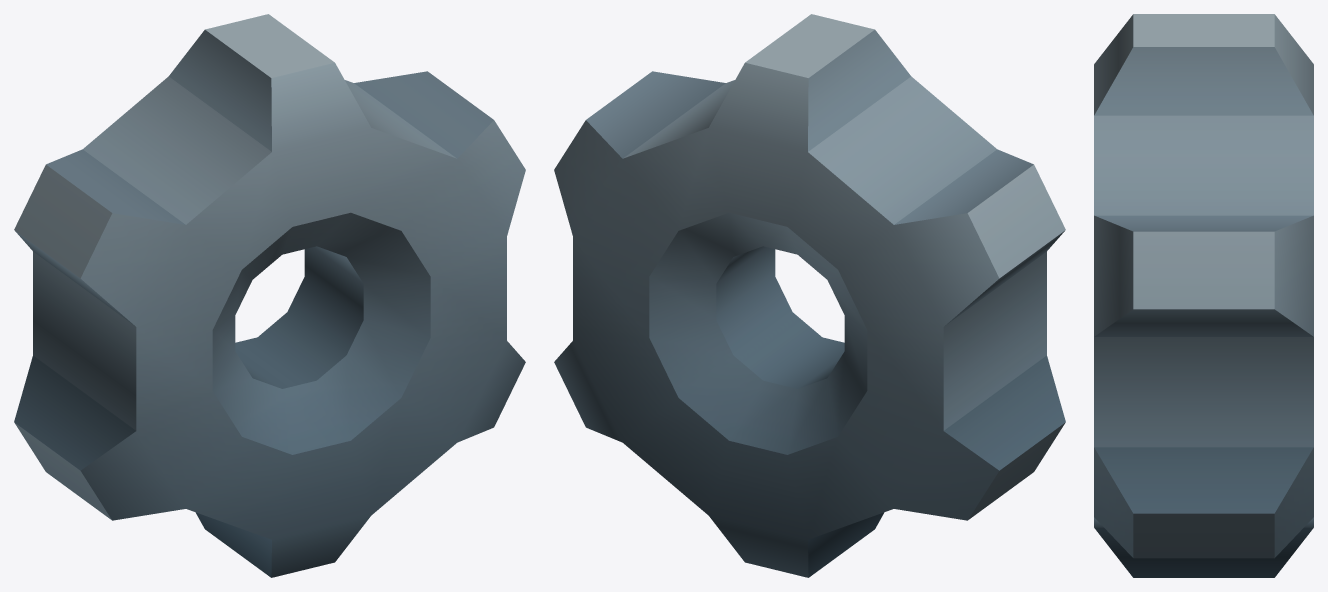
File: Parts_Cog.glb
The picture shows the model from 3 angles, left to right: view 1: azimuth 30°, elevation 25°; view 2: azimuth 150°, elevation 25°; view 3: azimuth 270°, elevation 25°; orthographic projection. The views are drawn at different scales.
Parts seen in each view (by area): view 1: Parts_Cog; view 2: Parts_Cog; view 3: Parts_Cog.
Part boxes in pixels (box(x1,y1,x2,y2)): Parts_Cog: box(14, 14, 525, 577); Parts_Cog: box(554, 14, 1065, 577); Parts_Cog: box(1094, 14, 1313, 577).
Bounding box in the file's own units: 0.3731 × 0.4 × 0.15.
Materials: 1 (1 with a texture image).
